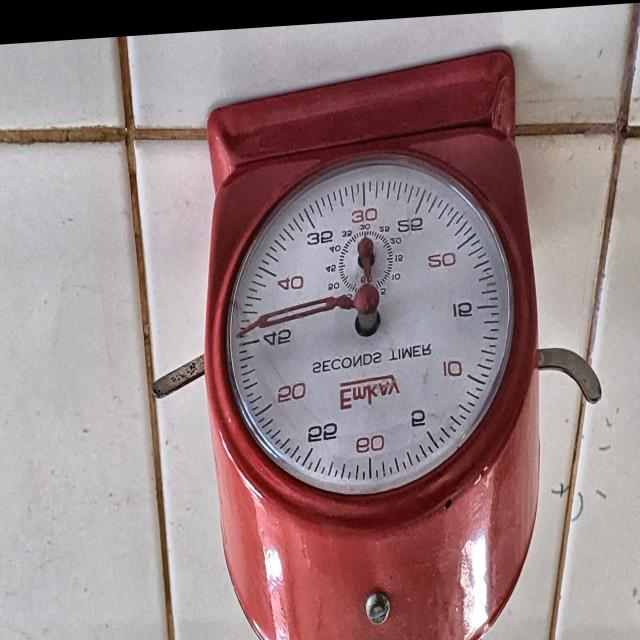Analog Stopwatch: (193, 25, 554, 640)
